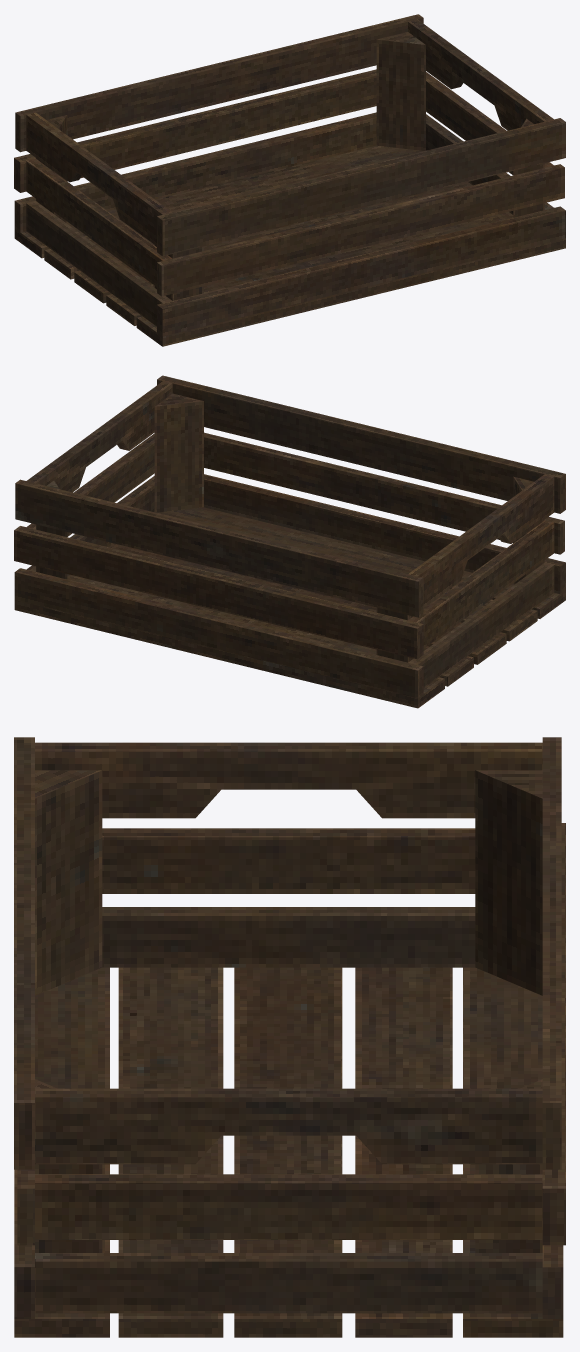
Rendered from supply_crate_1_empty.glb.
3 renders of one model, top to bottom at view 1: azimuth 30°, elevation 25°; view 2: azimuth 150°, elevation 25°; view 3: azimuth 270°, elevation 25°, orthographic. The views are drawn at different scales.
Parts seen in each view (by area): view 1: supply_crate_1_empty; view 2: supply_crate_1_empty; view 3: supply_crate_1_empty.
Part boxes in pixels (left/top/right/bottom): supply_crate_1_empty: left=14, top=14, right=565, bottom=346; supply_crate_1_empty: left=14, top=375, right=565, bottom=708; supply_crate_1_empty: left=14, top=737, right=565, bottom=1337.
Size of the model in its own units: 0.668 by 0.2 by 0.4262.
Materials: 1 (1 with a texture image).
